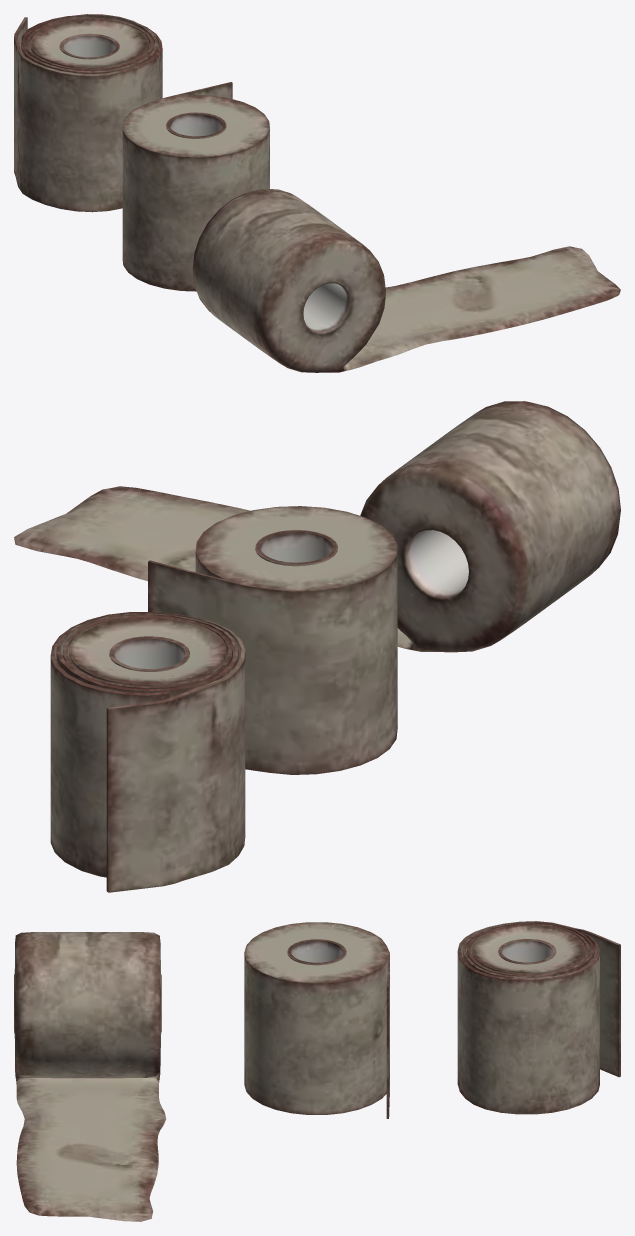
The model's file is item-bandage.glb.
The picture shows the model from 3 angles, top to bottom: view 1: azimuth 30°, elevation 25°; view 2: azimuth 150°, elevation 25°; view 3: azimuth 270°, elevation 25°; orthographic projection. The views are drawn at different scales.
Visible parts, largest first — view 1: SM_bandages.002_4, SM_bandages.001_3, SM_bandages_2; view 2: SM_bandages.002_4, SM_bandages.001_3, SM_bandages_2; view 3: SM_bandages.002_4, SM_bandages.001_3, SM_bandages_2.
Part boxes in pixels (x1,y1,x2,y2): SM_bandages.002_4: (192, 189, 620, 372); SM_bandages.001_3: (14, 14, 162, 212); SM_bandages_2: (122, 82, 269, 291); SM_bandages.002_4: (14, 401, 620, 652); SM_bandages.001_3: (50, 612, 245, 892); SM_bandages_2: (148, 506, 397, 774); SM_bandages.002_4: (14, 932, 166, 1221); SM_bandages.001_3: (457, 921, 620, 1114); SM_bandages_2: (244, 922, 389, 1118).
Bounding box in the file's own units: 0.3565 × 0.1249 × 0.4975.
1 material, 1 textured.
